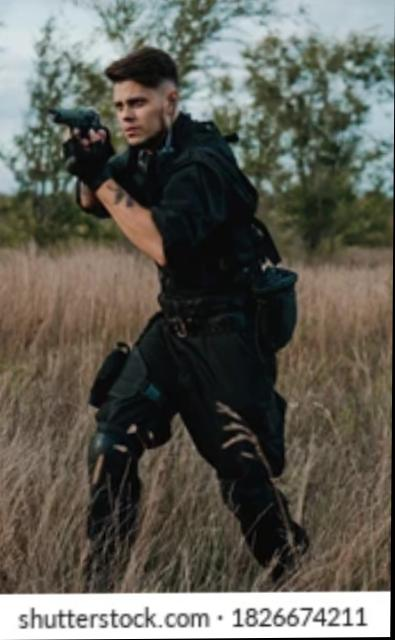other: (77, 45, 299, 557)
